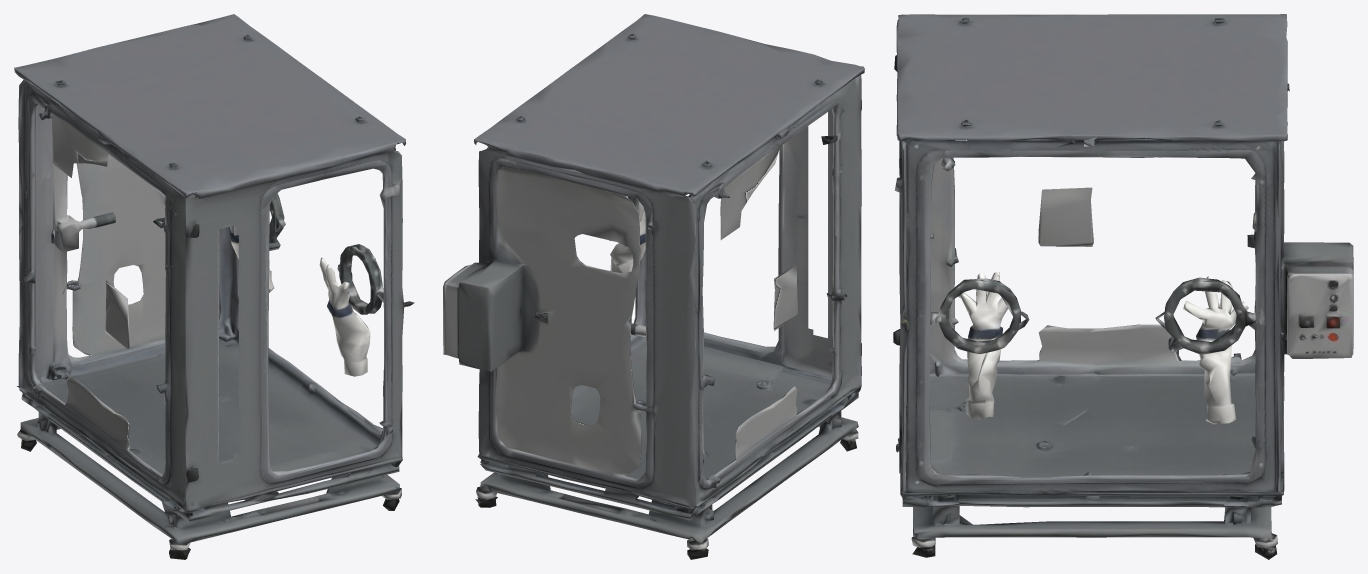
File: glovebox.glb
The picture shows the model from 3 angles, left to right: view 1: azimuth 30°, elevation 25°; view 2: azimuth 150°, elevation 25°; view 3: azimuth 270°, elevation 25°; orthographic projection. The views are drawn at different scales.
Visible parts, largest first — view 1: tripo_node_77165156-47b0-481b-9780-08cd26c6c462; view 2: tripo_node_77165156-47b0-481b-9780-08cd26c6c462; view 3: tripo_node_77165156-47b0-481b-9780-08cd26c6c462.
Part boxes in pixels (<box>): tripo_node_77165156-47b0-481b-9780-08cd26c6c462: <box>14,14,414,559</box>; tripo_node_77165156-47b0-481b-9780-08cd26c6c462: <box>443,14,864,559</box>; tripo_node_77165156-47b0-481b-9780-08cd26c6c462: <box>893,14,1353,559</box>.
Bounding box in the file's own units: 0.6492 × 1 × 0.9709.
1 material, 1 textured.
